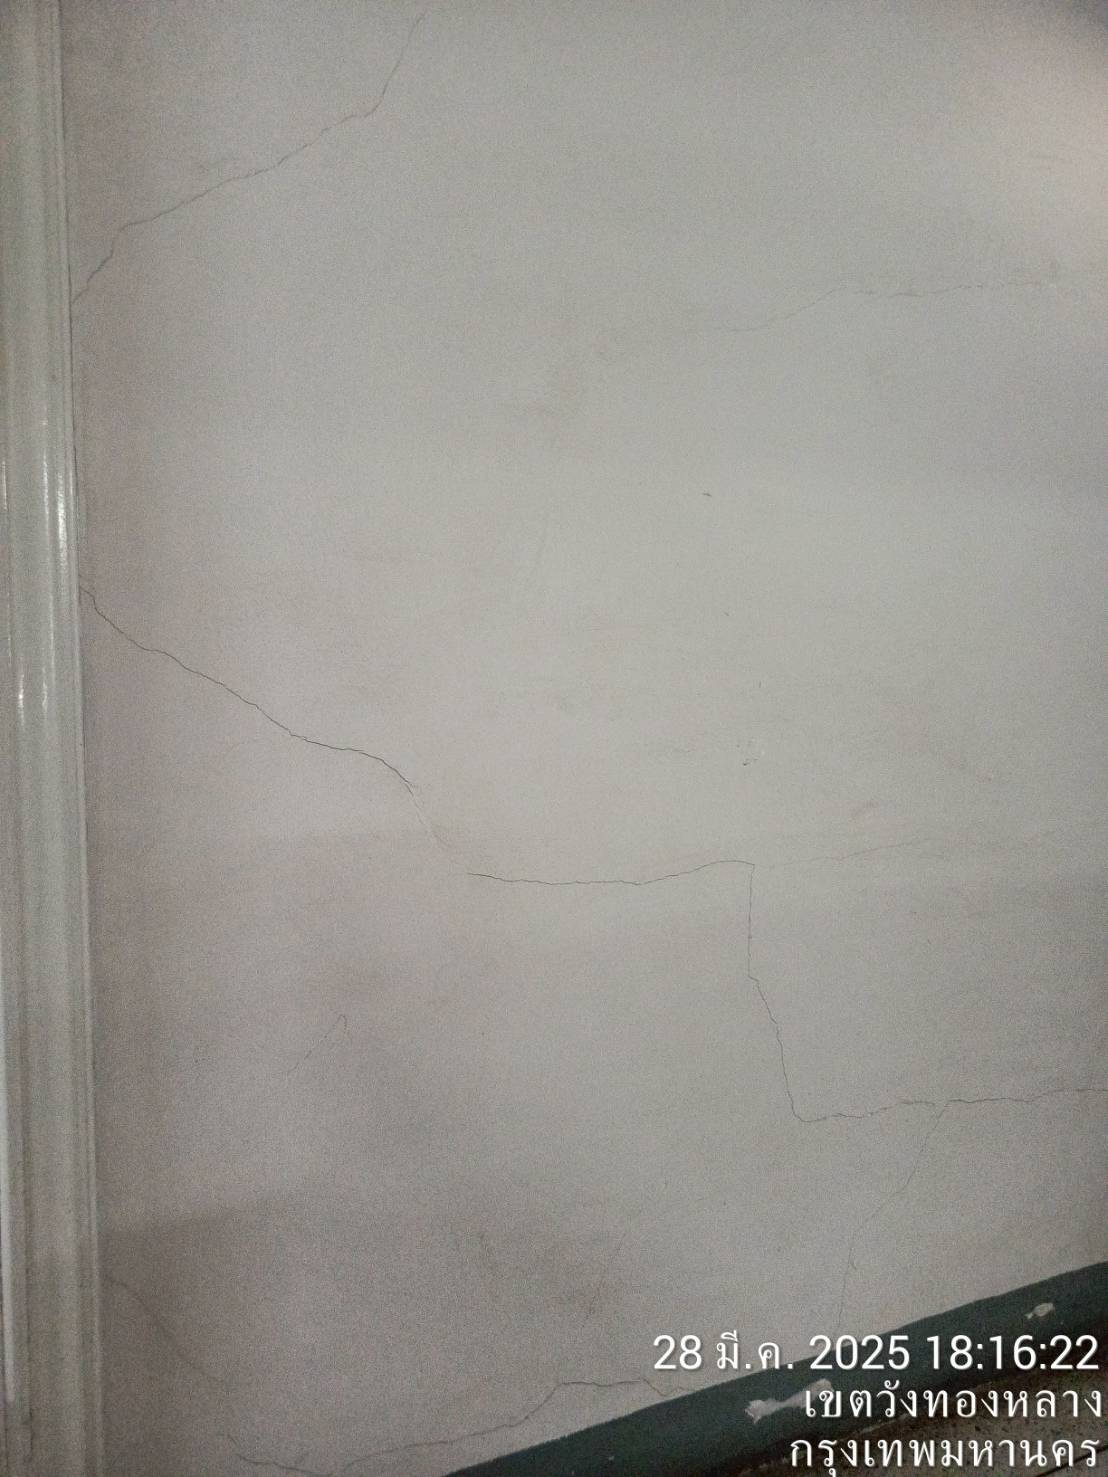Low: (59, 13, 1102, 1186)
